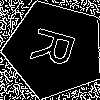R: (30, 24, 86, 72)
